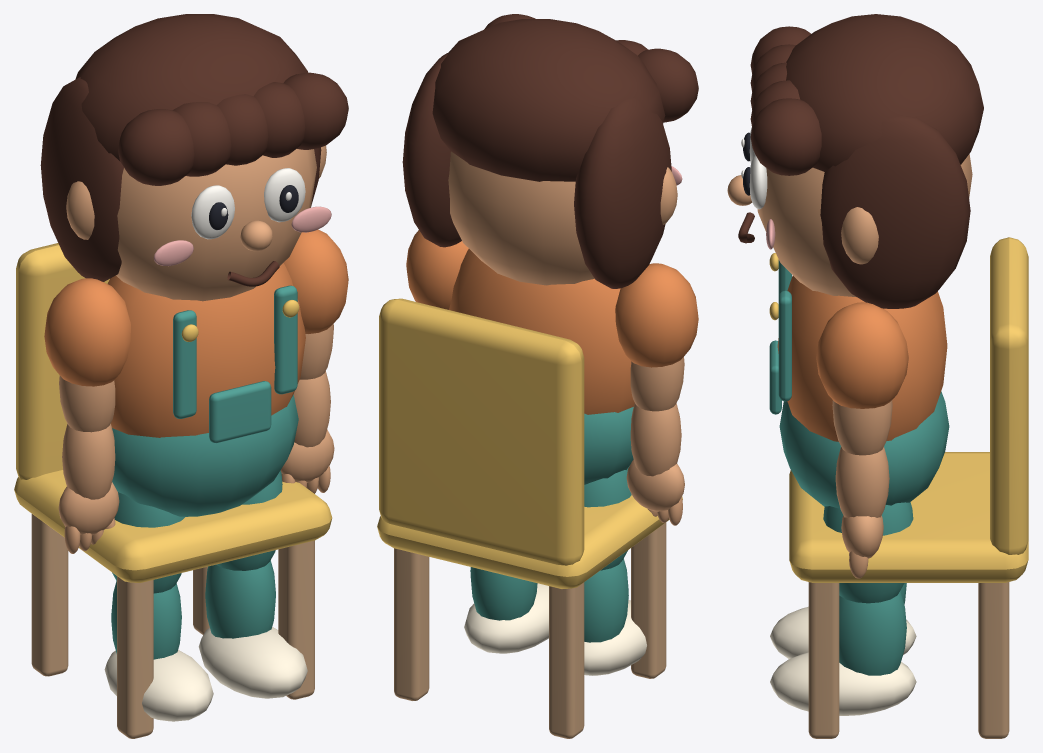
The model's file is word-sit.glb.
3 renders of one model, left to right at view 1: azimuth 30°, elevation 25°; view 2: azimuth 150°, elevation 25°; view 3: azimuth 270°, elevation 25°, orthographic. The views are drawn at different scales.
Visible parts, largest first — view 1: soft shirt, hair cap, clay head, chair seat, overalls, bob hair, chair back, shirt sleeve, little shoe.001, chair leg.001, chair leg, fringe (+28 smaller); view 2: chair back, hair cap, bob hair, clay head, soft shirt, chair seat, shirt sleeve, bob hair.001, chair leg.001, chair leg.003, chair leg, shirt sleeve.001 (+11 smaller); view 3: bob hair.001, hair cap, chair seat, chair back, soft shirt, shirt sleeve.001, overalls, clay head, chair leg.003, chair leg.002, lower leg.001, little shoe.001 (+14 smaller).
Boxes of the visible parts, x1,y1,x2,y2 form: soft shirt: [107, 263, 305, 437]; hair cap: [75, 14, 307, 160]; clay head: [116, 149, 316, 301]; chair seat: [14, 470, 332, 582]; overalls: [112, 395, 298, 516]; bob hair: [40, 77, 123, 281]; chair back: [16, 243, 109, 479]; shirt sleeve: [44, 278, 130, 386]; little shoe.001: [198, 627, 307, 698]; chair leg.001: [31, 514, 68, 676]; chair leg: [117, 576, 153, 738]; fringe: [118, 109, 194, 185]; chair back: [379, 298, 584, 565]; hair cap: [432, 19, 665, 181]; bob hair: [574, 98, 671, 288]; clay head: [448, 151, 594, 285]; soft shirt: [449, 249, 634, 414]; chair seat: [377, 495, 682, 588]; shirt sleeve: [615, 263, 698, 367]; bob hair.001: [402, 52, 461, 247]; chair leg.001: [549, 582, 584, 738]; chair leg.003: [394, 548, 429, 700]; chair leg: [631, 522, 666, 678]; shirt sleeve.001: [406, 230, 468, 309]; bob hair.001: [820, 116, 970, 308]; hair cap: [786, 14, 983, 171]; chair seat: [789, 452, 1028, 582]; chair back: [990, 237, 1028, 554]; soft shirt: [777, 275, 947, 441]; shirt sleeve.001: [816, 302, 908, 408]; overalls: [779, 391, 949, 508]; clay head: [757, 154, 972, 297]; chair leg.003: [978, 582, 1009, 738]; chair leg.002: [808, 582, 839, 738]; lower leg.001: [839, 591, 906, 675]; little shoe.001: [770, 652, 916, 715].
Bounding box in the file's own units: 0.87 × 1.9 × 0.78.
